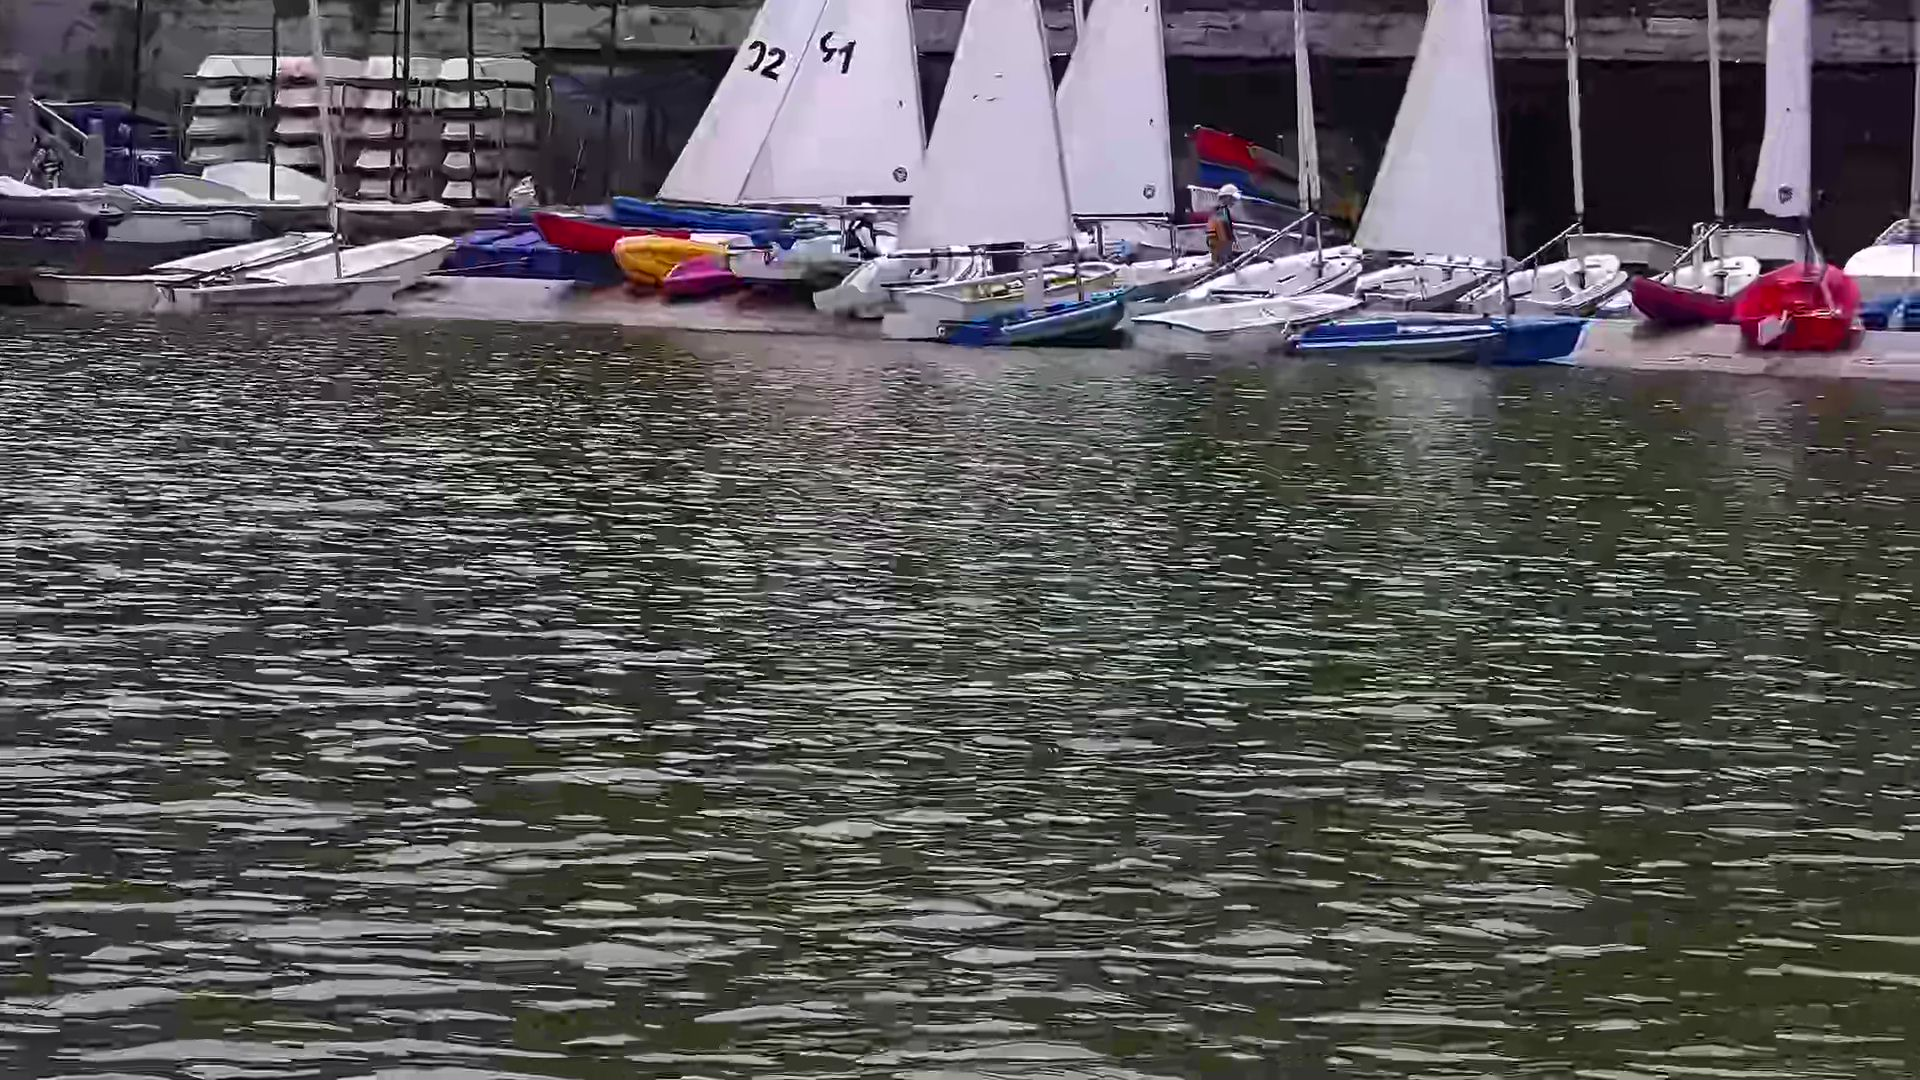harbor: (25, 22, 1903, 372)
